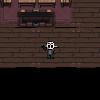Hide: (14, 8, 57, 27)
Jason: (40, 40, 59, 59)
